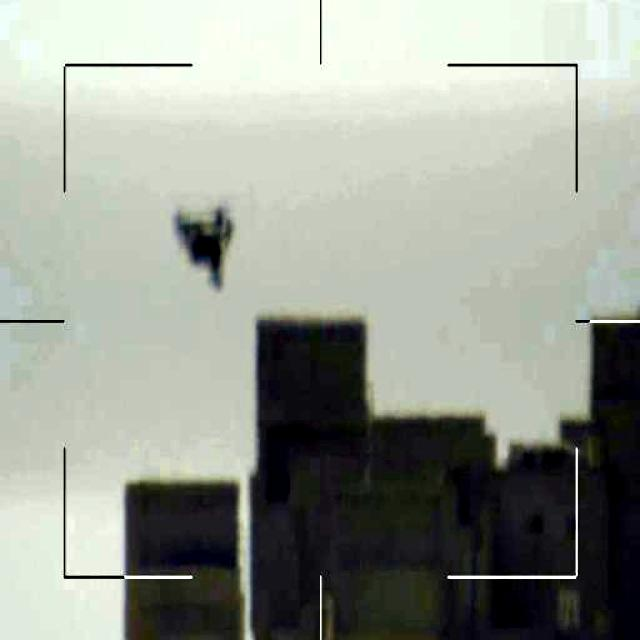bird: (172, 208, 244, 291)
